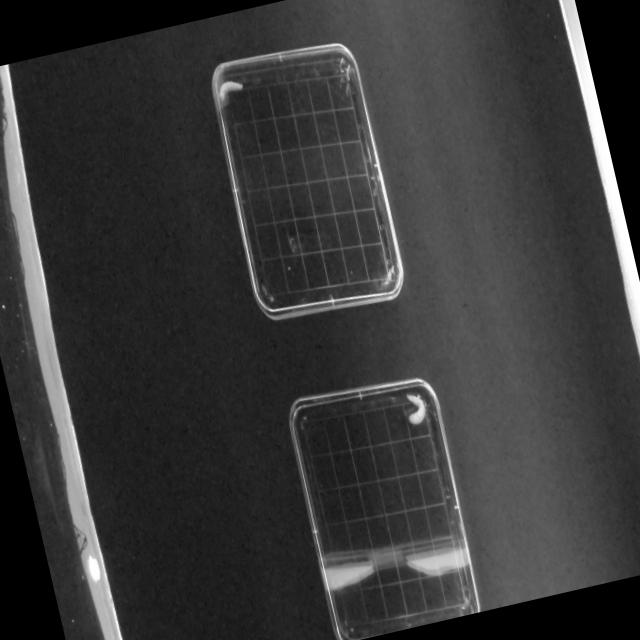larva: (398, 388, 431, 431), (214, 74, 246, 105)
